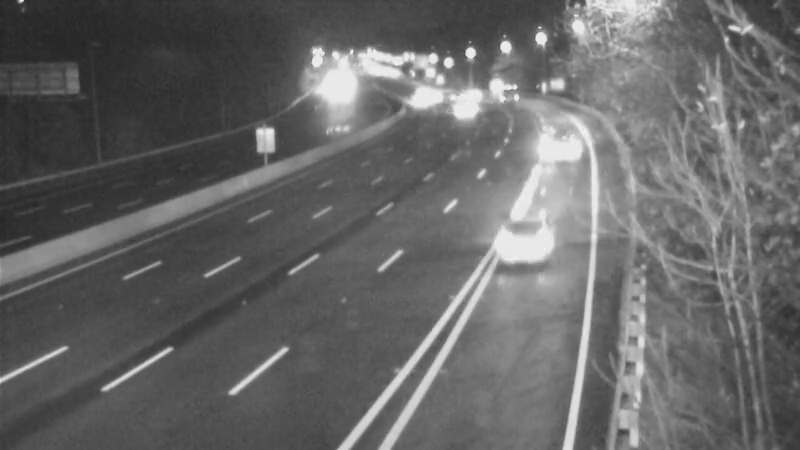vehicle: (516, 118, 596, 198), (487, 200, 567, 280), (481, 67, 531, 117), (396, 76, 446, 126), (438, 80, 488, 130)
